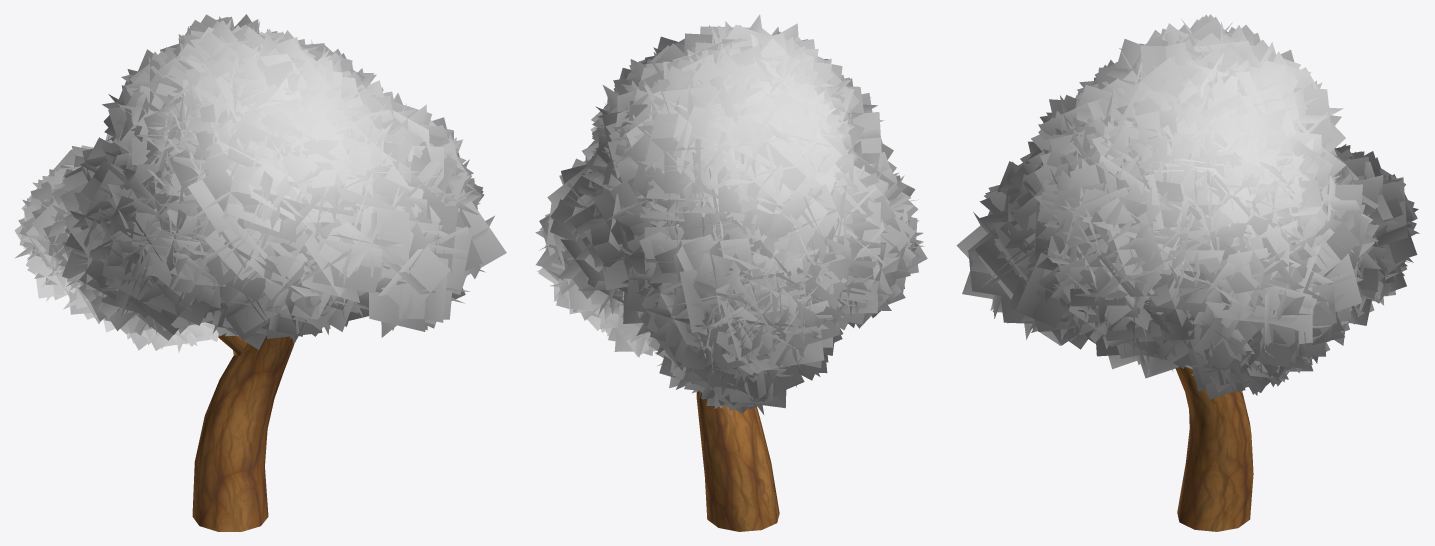
File: Arvore_01.fbx
3 renders of one model, left to right at view 1: azimuth 30°, elevation 25°; view 2: azimuth 150°, elevation 25°; view 3: azimuth 270°, elevation 25°, orthographic. The views are drawn at different scales.
Visible parts, largest first — view 1: Arvore_01_LOD0; view 2: Arvore_01_LOD0; view 3: Arvore_01_LOD0.
Boxes of the visible parts, x1,y1,x2,y2 form: Arvore_01_LOD0: (14,14,506,531); Arvore_01_LOD0: (535,14,927,531); Arvore_01_LOD0: (956,14,1419,531).
Size of what is drawn, in the model's own units: 667 by 879 by 749.
